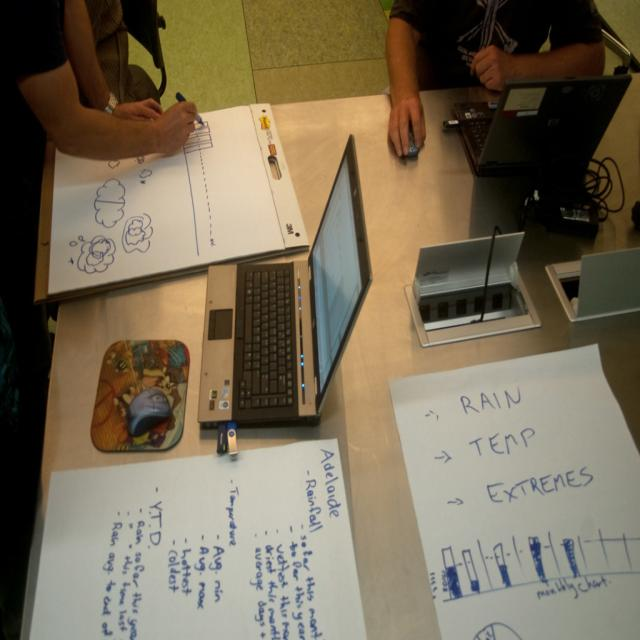Computer mouse: (125, 382, 170, 437), (401, 119, 421, 159)
